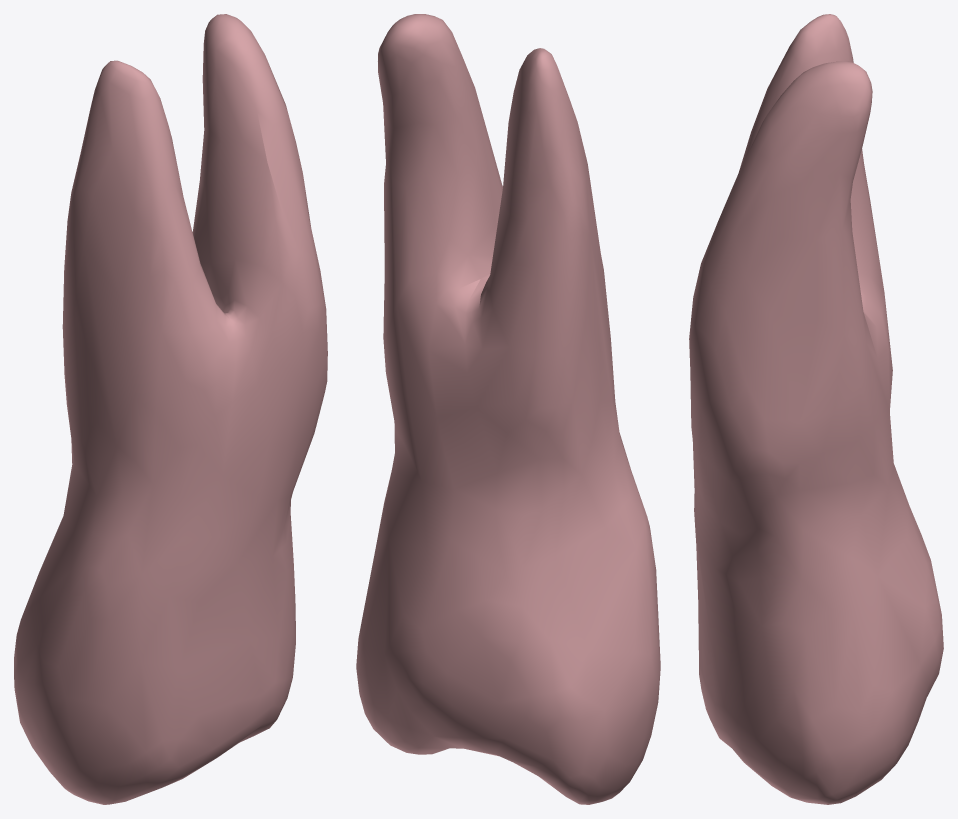
The model's file is fma55688_mm826m.glb.
The picture shows the model from 3 angles, left to right: view 1: azimuth 30°, elevation 25°; view 2: azimuth 150°, elevation 25°; view 3: azimuth 270°, elevation 25°; orthographic projection. The views are drawn at different scales.
Parts seen in each view (by area): view 1: FMA55688_MM826M; view 2: FMA55688_MM826M; view 3: FMA55688_MM826M.
Part boxes in pixels (box(x1,y1,x2,y2)): FMA55688_MM826M: box(14, 14, 327, 804); FMA55688_MM826M: box(356, 14, 660, 804); FMA55688_MM826M: box(689, 14, 943, 804).
Bounding box in the file's own units: 0.00846 × 0.0225 × 0.00686.
